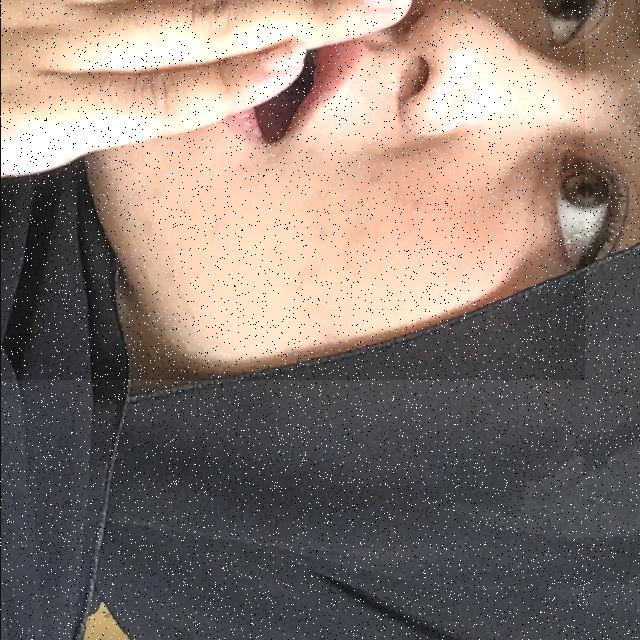ngantuk: (0, 0, 584, 380)
